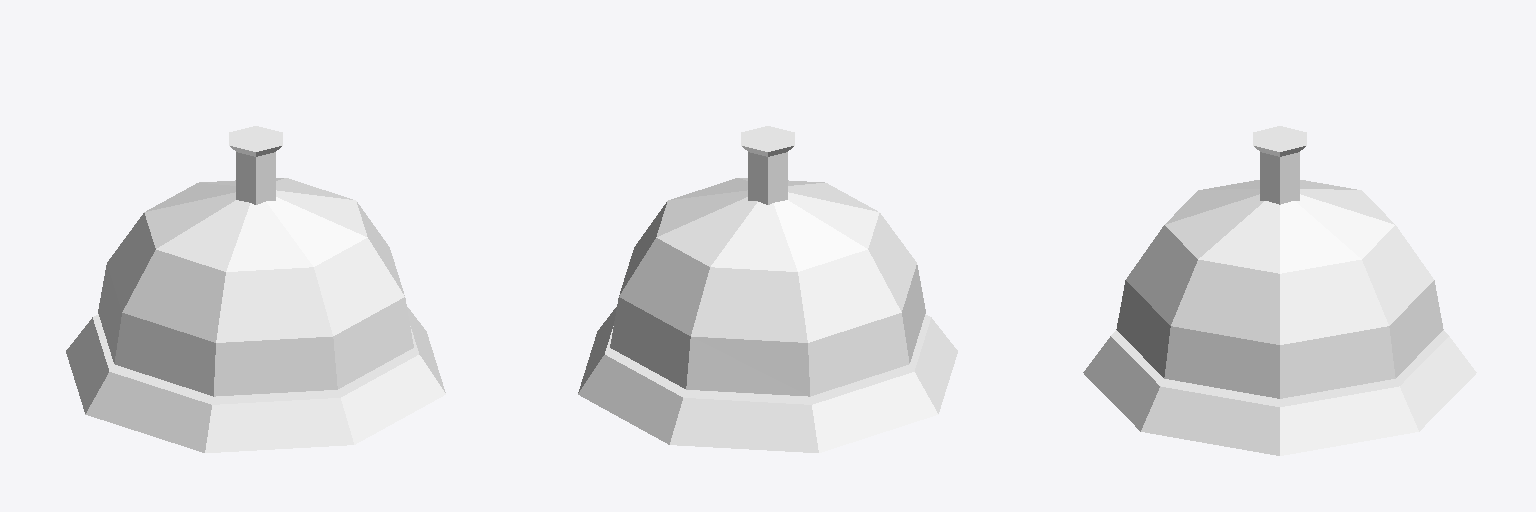
The model's file is bell.obj.
The picture shows the model from 3 angles: view 1: azimuth 30°, elevation 25°; view 2: azimuth 150°, elevation 25°; view 3: azimuth 270°, elevation 25°; orthographic projection.
Visible parts, largest first — view 1: bell; view 2: bell; view 3: bell.
Boxes of the visible parts, <box> form: bell: <box>66,126,445,452</box>; bell: <box>578,126,957,452</box>; bell: <box>1083,126,1476,455</box>.
Size of the model in its own units: 0.2696 by 0.1766 by 0.2696.